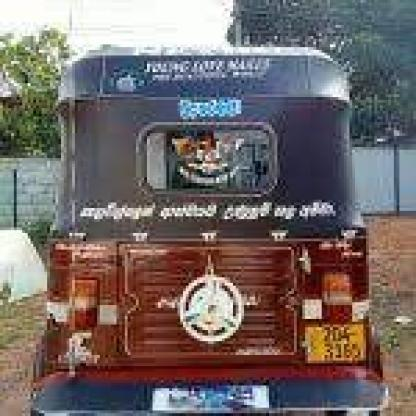number plate: (314, 327, 365, 361)
three wheeler back: (27, 41, 388, 416)
